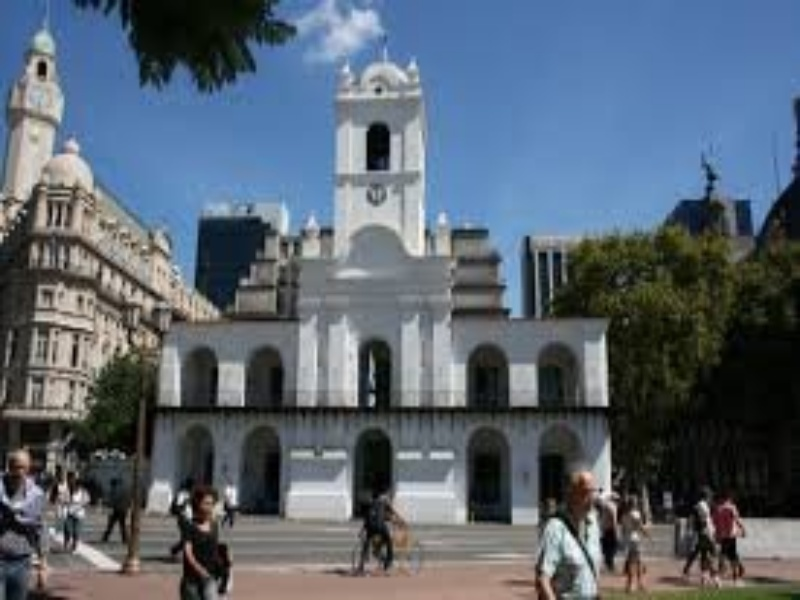cabildo: (147, 34, 619, 534)
